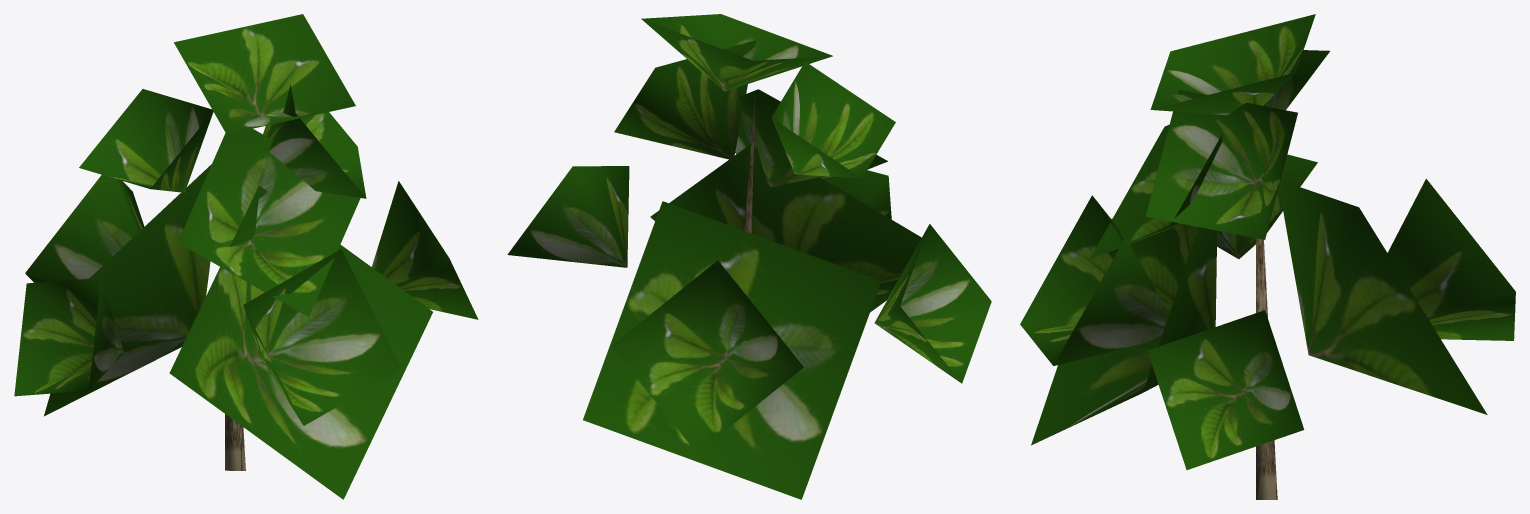
The model's file is leaf_palmbush_a3_l2.fbx.
The picture shows the model from 3 angles, left to right: view 1: azimuth 30°, elevation 25°; view 2: azimuth 150°, elevation 25°; view 3: azimuth 270°, elevation 25°; orthographic projection. The views are drawn at different scales.
Parts seen in each view (by area): view 1: mesh_node; view 2: mesh_node; view 3: mesh_node.
Part boxes in pixels (x1,y1,x2,y2): mesh_node: (14, 14, 478, 499); mesh_node: (507, 14, 991, 499); mesh_node: (1020, 14, 1515, 499).
Size of the model in its own units: 2.05 by 1.93 by 1.85.
2 materials, 2 textured.
